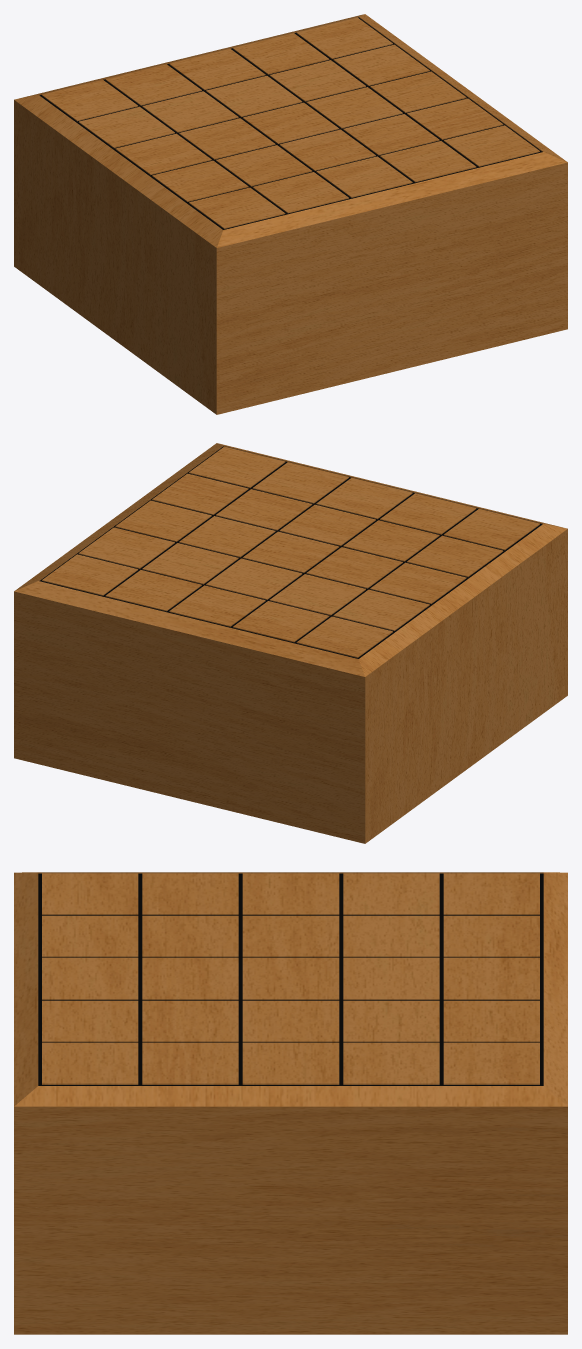
The model's file is ban.glb.
3 renders of one model, top to bottom at view 1: azimuth 30°, elevation 25°; view 2: azimuth 150°, elevation 25°; view 3: azimuth 270°, elevation 25°, orthographic. The views are drawn at different scales.
Visible parts, largest first — view 1: Cube; view 2: Cube; view 3: Cube.
Boxes of the visible parts, <box> form: Cube: <box>14,14,567,414</box>; Cube: <box>14,443,567,843</box>; Cube: <box>14,872,567,1334</box>.
Bounding box in the file's own units: 21 × 10 × 21.
2 materials, 1 textured.
